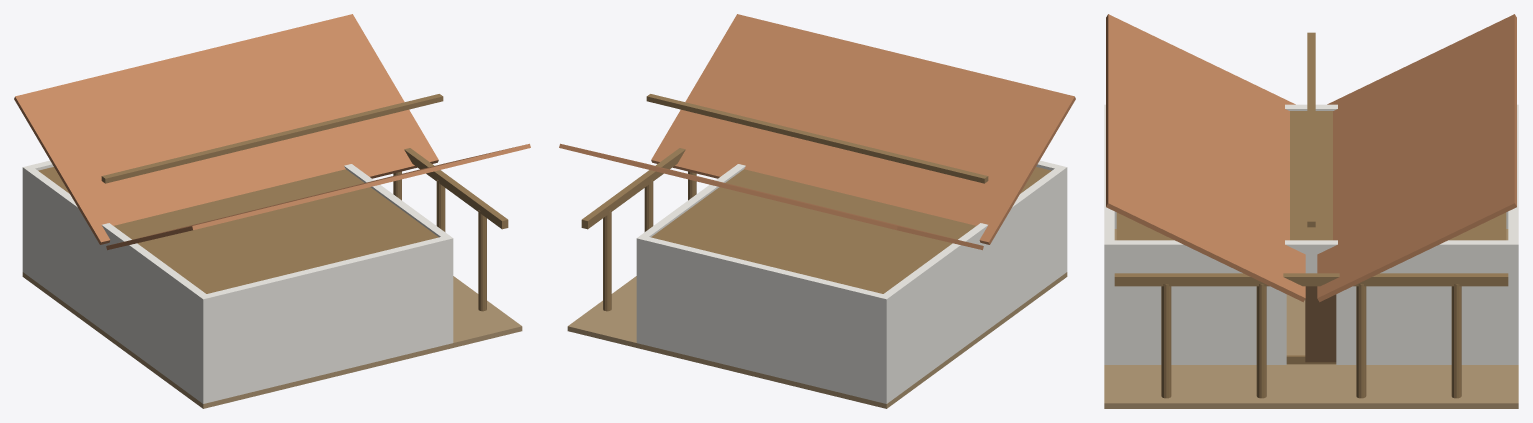
Rendered from casa_tipica_eje_cafetero.glb.
3 views of the same model, side by side, from view 1: azimuth 30°, elevation 25°; view 2: azimuth 150°, elevation 25°; view 3: azimuth 270°, elevation 25° (orthographic). The views are drawn at different scales.
Parts seen in each view (by area): view 1: CasaTipicaEjeCafetero; view 2: CasaTipicaEjeCafetero; view 3: CasaTipicaEjeCafetero.
Boxes of the visible parts, <box> form: CasaTipicaEjeCafetero: <box>14,14,530,408</box>; CasaTipicaEjeCafetero: <box>559,14,1075,408</box>; CasaTipicaEjeCafetero: <box>1104,14,1518,408</box>.
Size of the model in its own units: 10.8 by 5.62 by 10.
